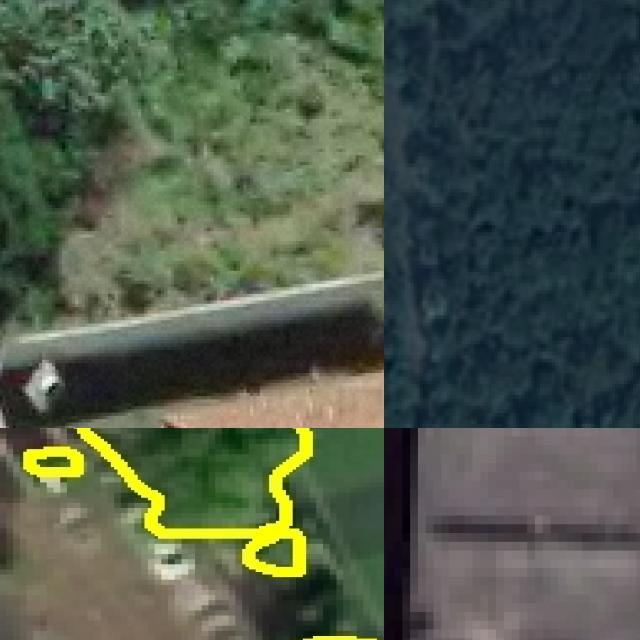trees: (385, 1, 640, 429), (406, 1, 640, 429), (78, 429, 307, 573), (1, 1, 152, 158), (1, 80, 76, 329), (28, 450, 81, 473)
